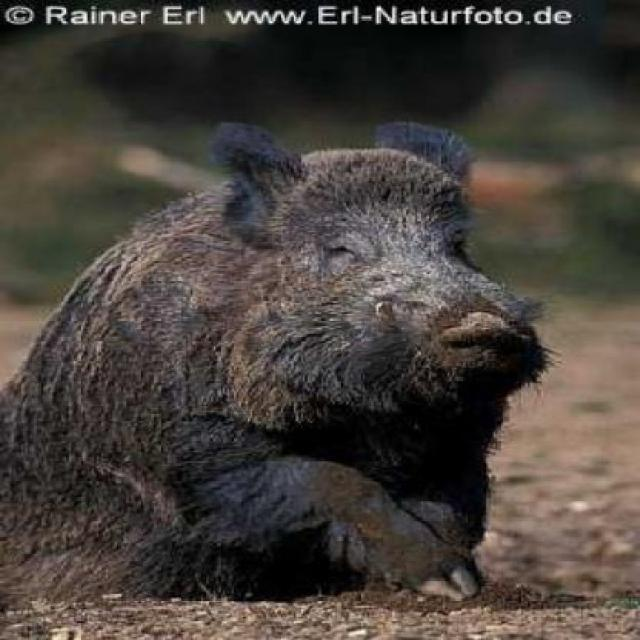pig: (0, 112, 623, 606)
